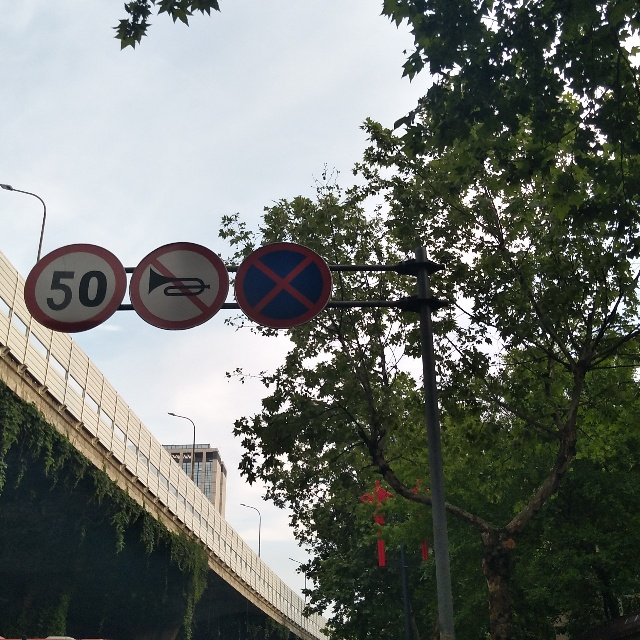nohonk: (134, 240, 222, 325)
stop: (243, 248, 323, 325)
